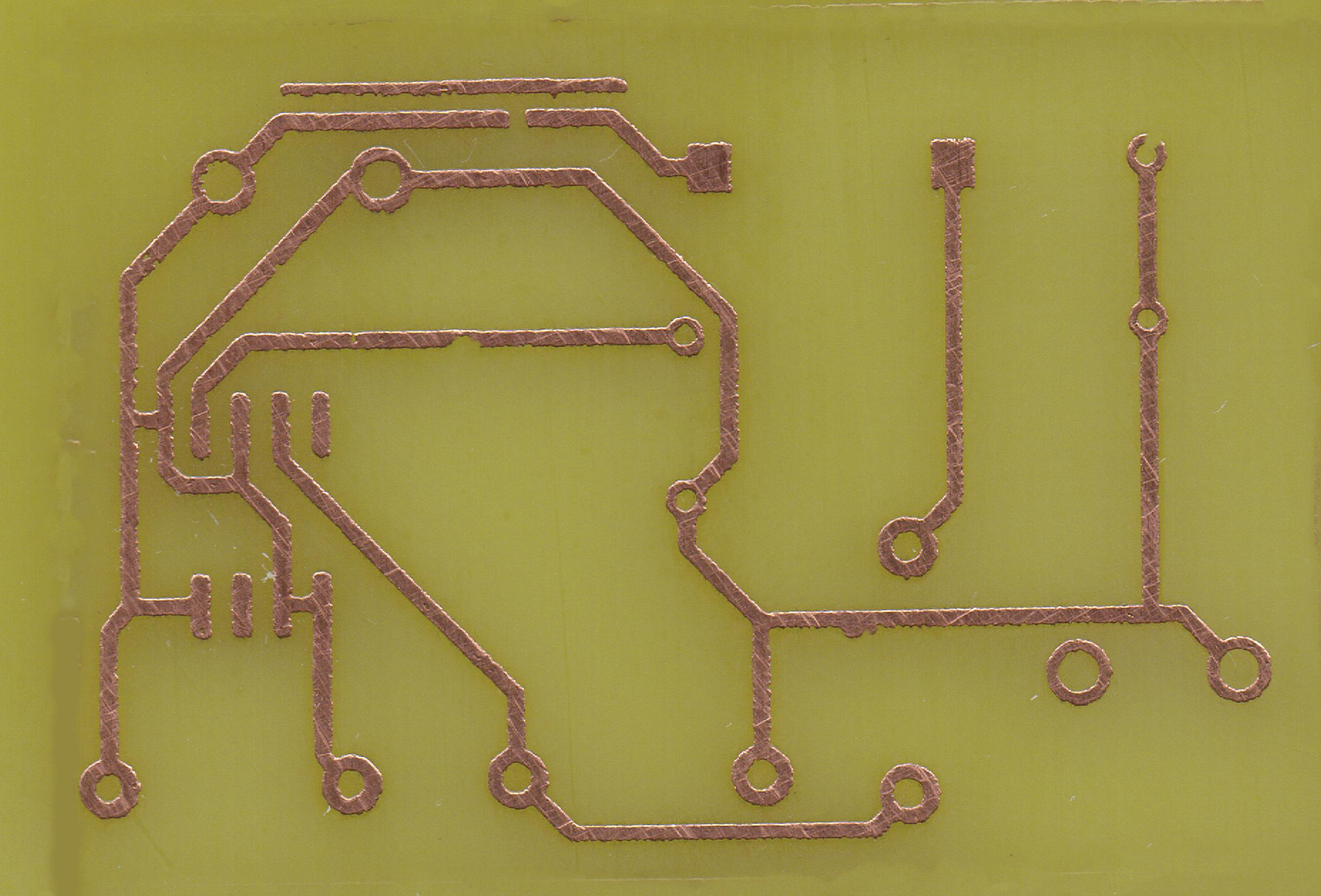missing_hole: (1125, 133, 1168, 174)
mouse_bite: (441, 330, 487, 349)
open_circuit: (491, 109, 544, 128)
short: (120, 406, 175, 435)
spur: (835, 611, 881, 640)
spurious_copper: (280, 76, 631, 99)
